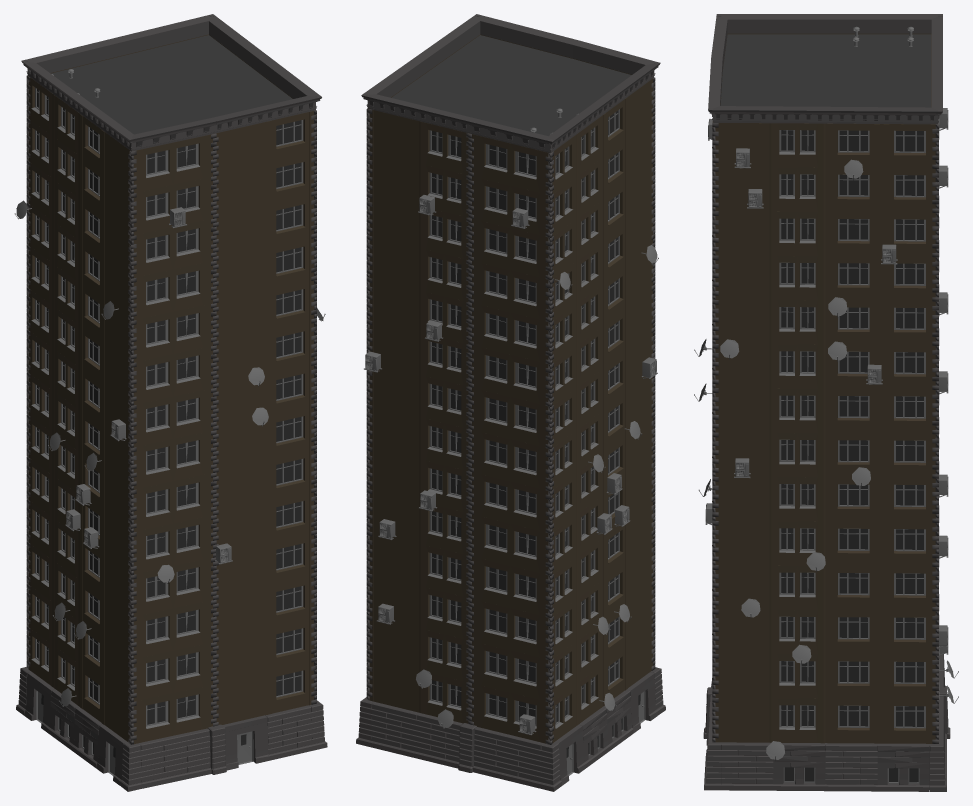
The picture shows the model from 3 angles, left to right: view 1: azimuth 30°, elevation 25°; view 2: azimuth 150°, elevation 25°; view 3: azimuth 270°, elevation 25°; orthographic projection. The views are drawn at different scales.
Parts seen in each view (by area): view 1: Plane.021, middle_floor_wall_02.802, middle_floor_wall_02.798, middle_floor_wall_02.794, middle_floor_wall_02.790, middle_floor_wall_02.791, middle_floor_wall_02.796, middle_floor_wall_02.799, middle_floor_wall_02.795, middle_floor_wall_02.797, middle_floor_wall_02.789, middle_floor_wall_02.800 (+106 smaller); view 2: Plane.021, middle_floor_wall_02.788, middle_floor_wall_02.785, middle_floor_wall_02.777, middle_floor_wall_02.781, middle_floor_wall_02.784, middle_floor_wall_02.786, middle_floor_wall_02.776, middle_floor_wall_02.778, middle_floor_wall_02.779, middle_floor_wall_02.780, middle_floor_wall_02.782 (+106 smaller); view 3: Plane.021, ground_floor_wall_02.165, ground_floor_wall_03.049, middle_floor_wall_02.766, middle_floor_wall_02.767, middle_floor_wall_02.770, middle_floor_wall_02.771, middle_floor_wall_02.774, middle_floor_wall_03.299, middle_floor_wall_03.301, middle_floor_wall_03.309, middle_floor_wall_03.317 (+61 smaller).
Boxes of the visible parts, bbox=[...] form: Plane.021: bbox=[51, 35, 292, 134]; middle_floor_wall_02.802: bbox=[133, 133, 214, 193]; middle_floor_wall_02.798: bbox=[133, 304, 212, 362]; middle_floor_wall_02.794: bbox=[133, 473, 212, 532]; middle_floor_wall_02.790: bbox=[133, 643, 212, 701]; middle_floor_wall_02.791: bbox=[133, 600, 212, 659]; middle_floor_wall_02.796: bbox=[133, 389, 212, 447]; middle_floor_wall_02.799: bbox=[133, 262, 212, 320]; middle_floor_wall_02.795: bbox=[133, 431, 212, 489]; middle_floor_wall_02.797: bbox=[133, 346, 212, 405]; middle_floor_wall_02.789: bbox=[133, 685, 212, 744]; middle_floor_wall_02.800: bbox=[133, 219, 212, 277]; Plane.021: bbox=[391, 35, 631, 136]; middle_floor_wall_02.788: bbox=[470, 133, 548, 194]; middle_floor_wall_02.785: bbox=[472, 261, 548, 320]; middle_floor_wall_02.777: bbox=[472, 599, 548, 658]; middle_floor_wall_02.781: bbox=[472, 430, 548, 489]; middle_floor_wall_02.784: bbox=[472, 303, 548, 363]; middle_floor_wall_02.786: bbox=[472, 219, 548, 278]; middle_floor_wall_02.776: bbox=[472, 641, 548, 701]; middle_floor_wall_02.778: bbox=[472, 557, 548, 616]; middle_floor_wall_02.779: bbox=[472, 514, 548, 574]; middle_floor_wall_02.780: bbox=[472, 472, 548, 532]; middle_floor_wall_02.782: bbox=[472, 388, 548, 447]; Plane.021: bbox=[720, 34, 931, 107]; ground_floor_wall_02.165: bbox=[825, 743, 877, 791]; ground_floor_wall_03.049: bbox=[877, 743, 929, 791]; middle_floor_wall_02.766: bbox=[769, 477, 825, 521]; middle_floor_wall_02.767: bbox=[769, 433, 825, 477]; middle_floor_wall_02.770: bbox=[769, 300, 825, 344]; middle_floor_wall_02.771: bbox=[769, 256, 825, 300]; middle_floor_wall_02.774: bbox=[769, 123, 825, 167]; middle_floor_wall_03.299: bbox=[825, 610, 881, 655]; middle_floor_wall_03.301: bbox=[825, 566, 881, 610]; middle_floor_wall_03.309: bbox=[825, 389, 881, 433]; middle_floor_wall_03.317: bbox=[825, 212, 881, 256].
Bounding box in the file's own units: 1624 × 4644 × 1643.
